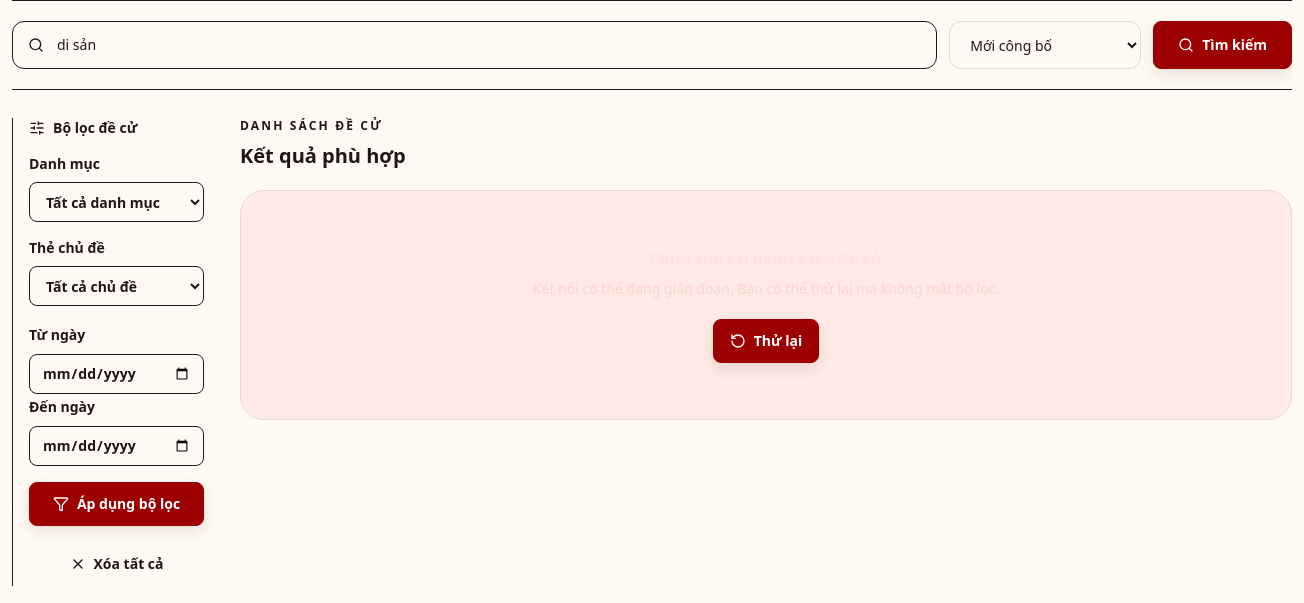
Test: PublicLibrary › retries an API error without losing filters
This screenshot has width=1304, height=603.
Click the button "Thử lại" at {"x": 766, "y": 341}, box [713, 319, 819, 363]
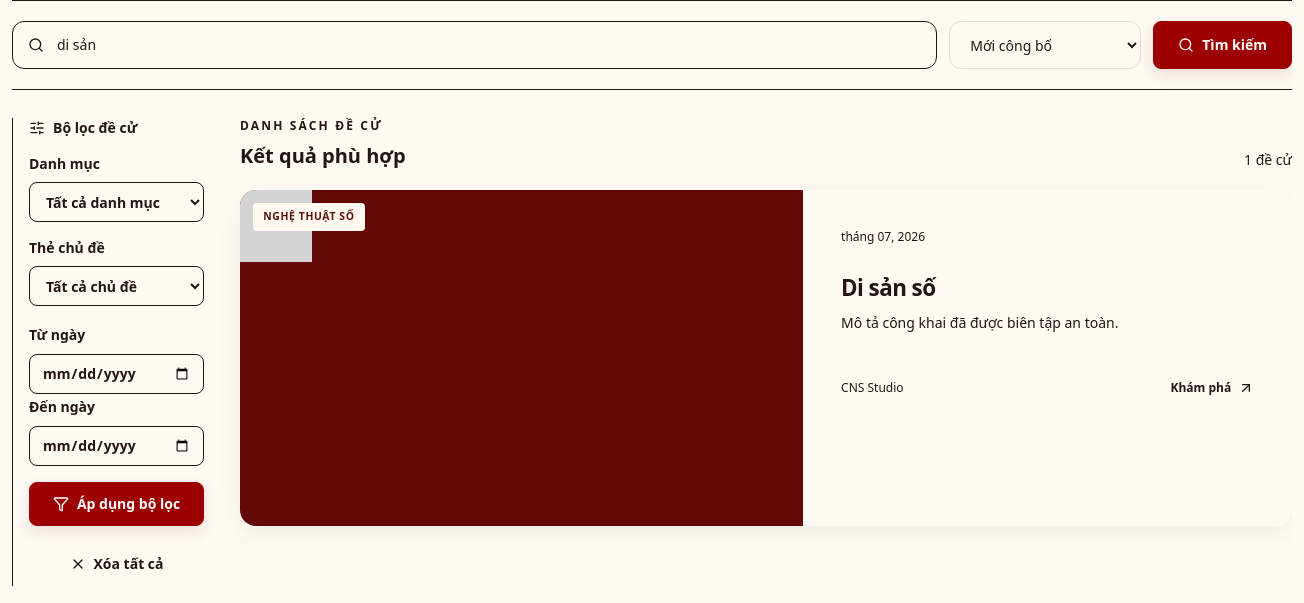
Expected: the heading "Di sản số" is shown, [841, 272, 936, 303]
